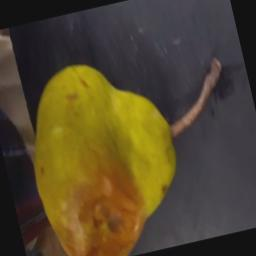Pear Rotten: (3, 25, 253, 256)
